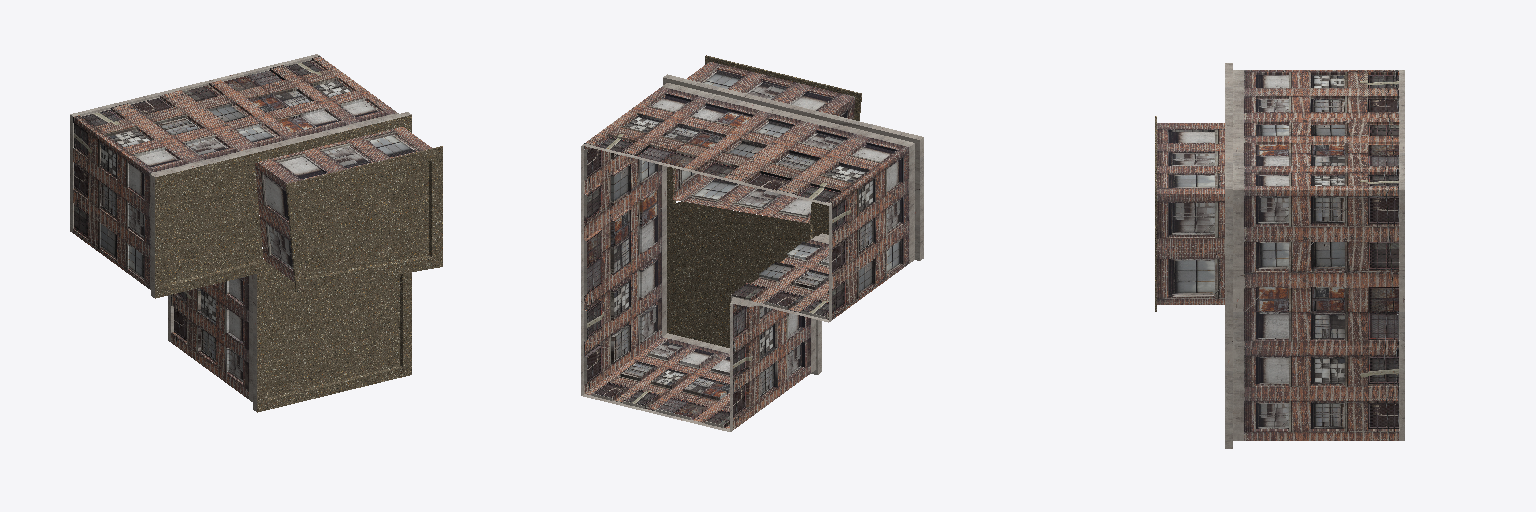
3 renders of one model, left to right at view 1: azimuth 30°, elevation 25°; view 2: azimuth 150°, elevation 25°; view 3: azimuth 270°, elevation 25°, orthographic.
Parts seen in each view (by area): view 1: Object_4; view 2: Object_4; view 3: Object_4.
Part boxes in pixels (left/top/right/bottom): Object_4: left=70, top=54, right=442, bottom=412; Object_4: left=581, top=55, right=923, bottom=431; Object_4: left=1155, top=63, right=1404, bottom=448.
Size of the model in its own units: 3.45 by 3.34 by 2.91.
2 materials, 2 textured.